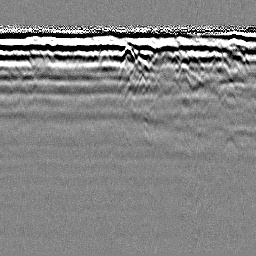cavity: (120, 44, 136, 64)
